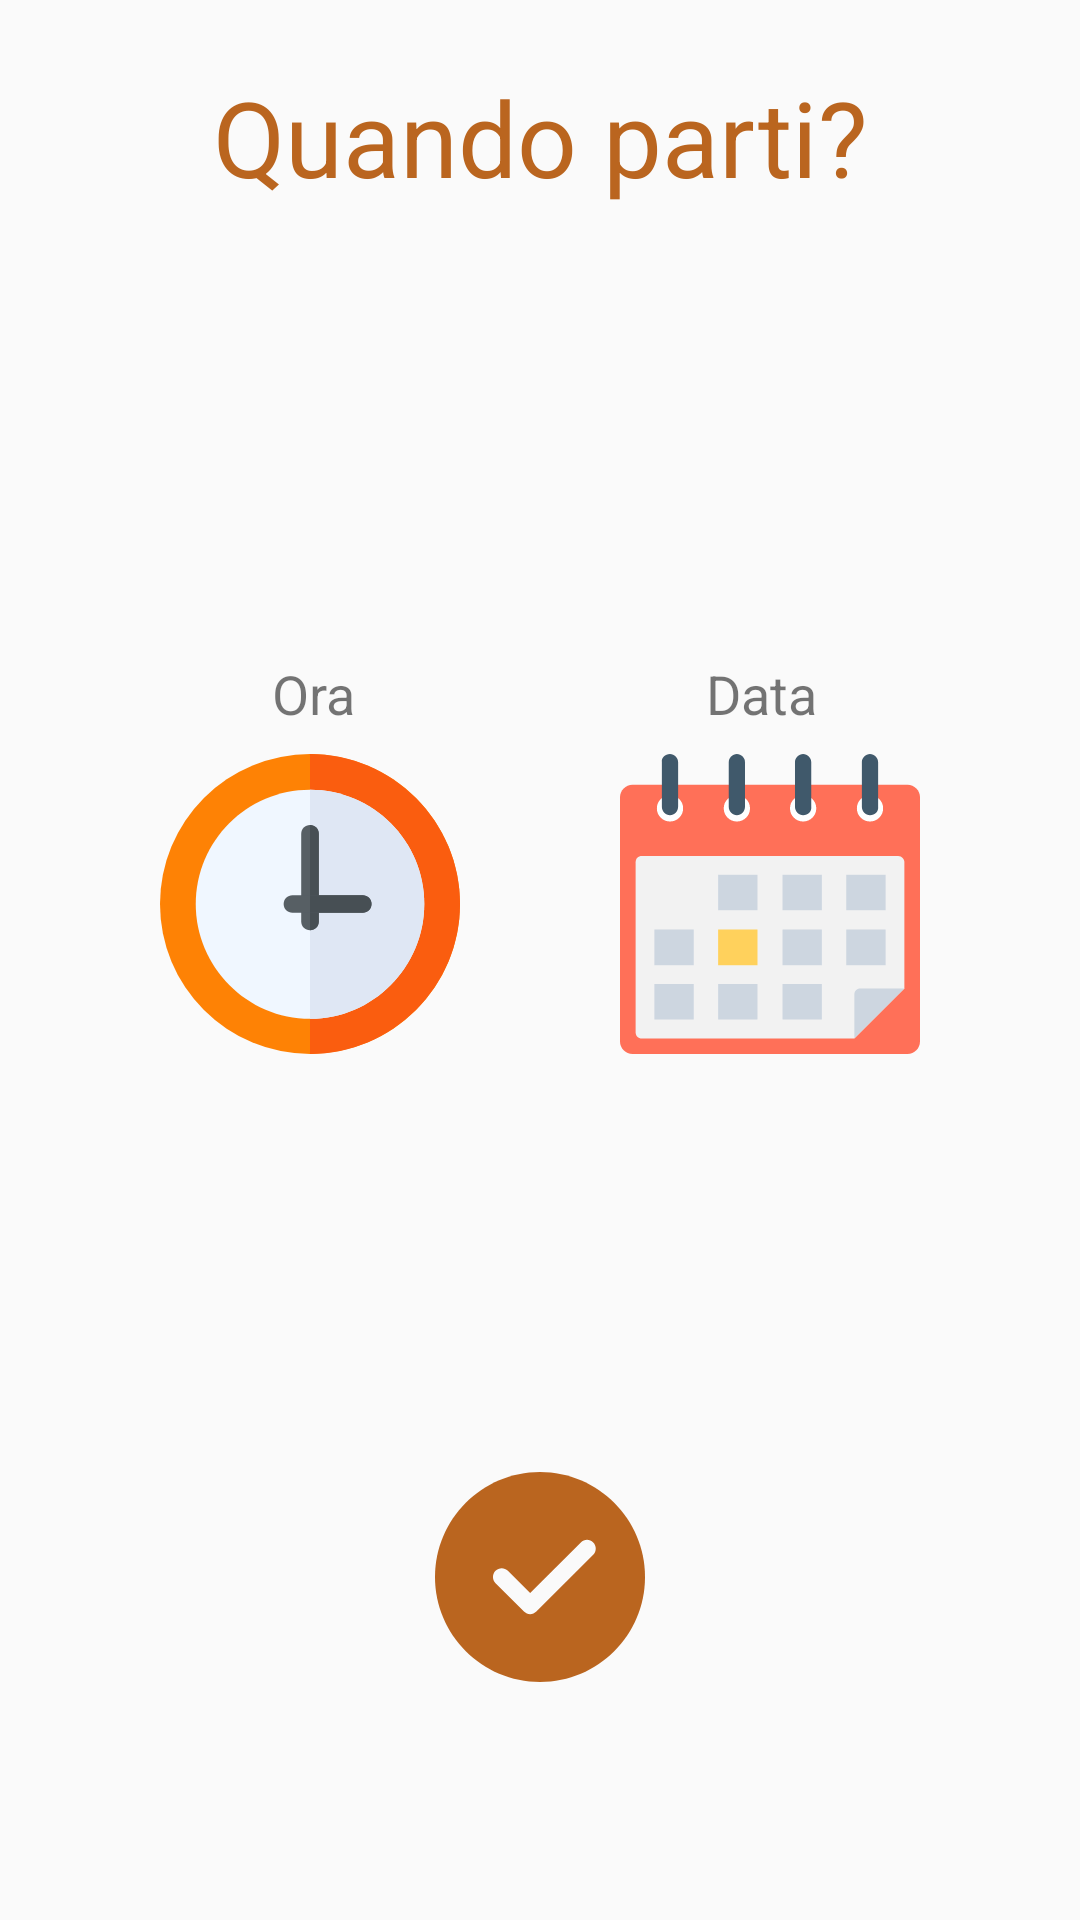

Screen size 1080*1920. Icon name, then its box in pixels as (x1=x1, y1=y1, x2=x2, y2=y2):
calendar: (x1=620, y1=754, x2=920, y2=1054)
clock: (x1=160, y1=754, x2=460, y2=1054)
